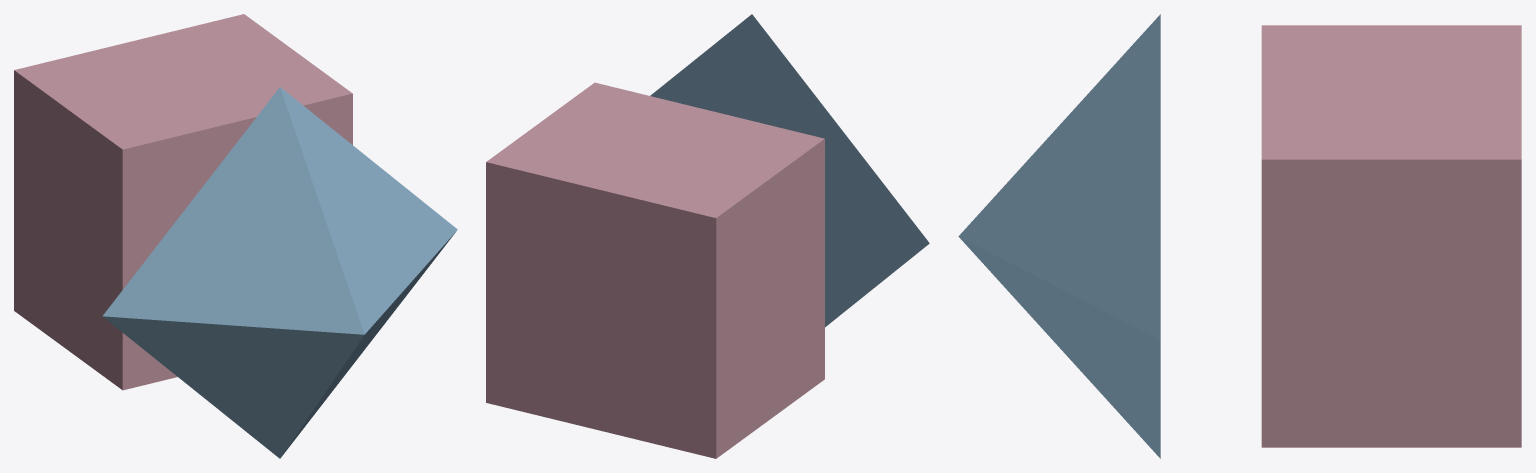
3 views of the same model, side by side, from view 1: azimuth 30°, elevation 25°; view 2: azimuth 150°, elevation 25°; view 3: azimuth 270°, elevation 25° (orthographic). The views are drawn at different scales.
Parts seen in each view (by area): view 1: part1, part0; view 2: part0, part1; view 3: part0, part1.
Boxes of the visible parts, x1,y1,x2,y2 form: part1: [102, 87, 457, 458]; part0: [14, 14, 352, 390]; part0: [486, 82, 824, 458]; part1: [650, 14, 929, 327]; part0: [1261, 25, 1521, 447]; part1: [958, 14, 1160, 458].
Bounding box in the file's own units: 3.4 × 3.4 × 3.9.
